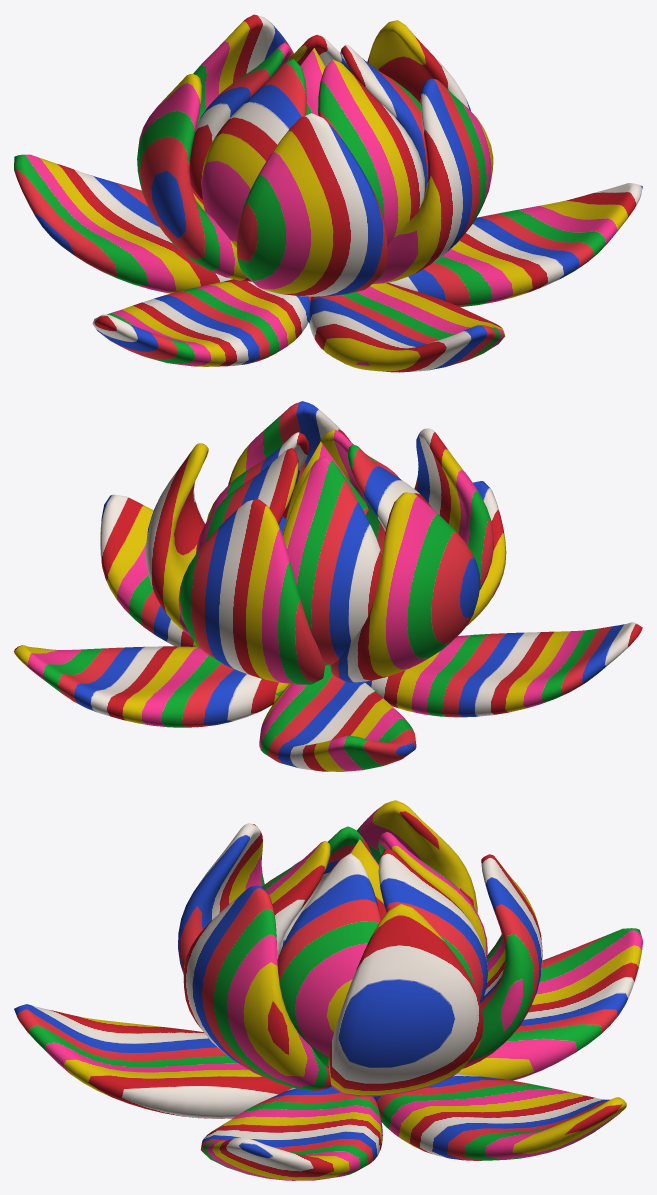
The model's file is C-6_Onstick.fbx.
3 views of the same model, one above another, from view 1: azimuth 30°, elevation 25°; view 2: azimuth 150°, elevation 25°; view 3: azimuth 270°, elevation 25° (orthographic). The views are drawn at different scales.
Visible parts, largest first — view 1: C-6; view 2: C-6; view 3: C-6.
Boxes of the visible parts, x1,y1,x2,y2 form: C-6: (14, 14, 642, 372); C-6: (14, 401, 642, 771); C-6: (14, 800, 642, 1180).
Size of the model in its own units: 139 by 135 by 62.53.
